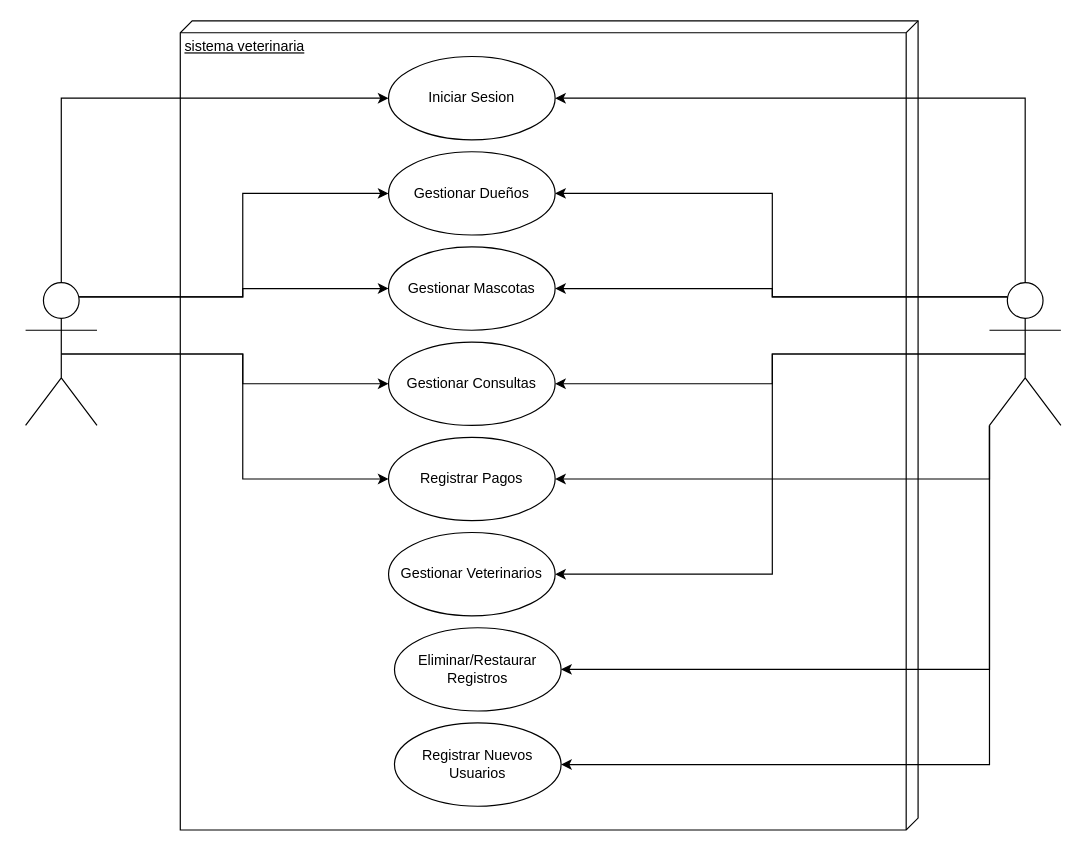
Some shapes in this 1090 by 851 pixel diagram are drawn without their labels. The box of each missing label's shape, as (x1, y1, x2, y2) in pixels:
Administrador: (988, 281, 1061, 425)
Secretaria(o): (24, 281, 97, 425)
